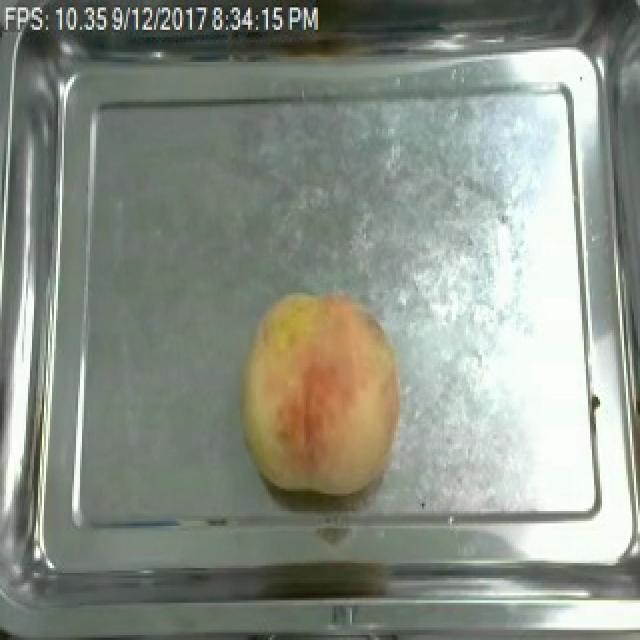Fruit: (232, 283, 412, 501)
